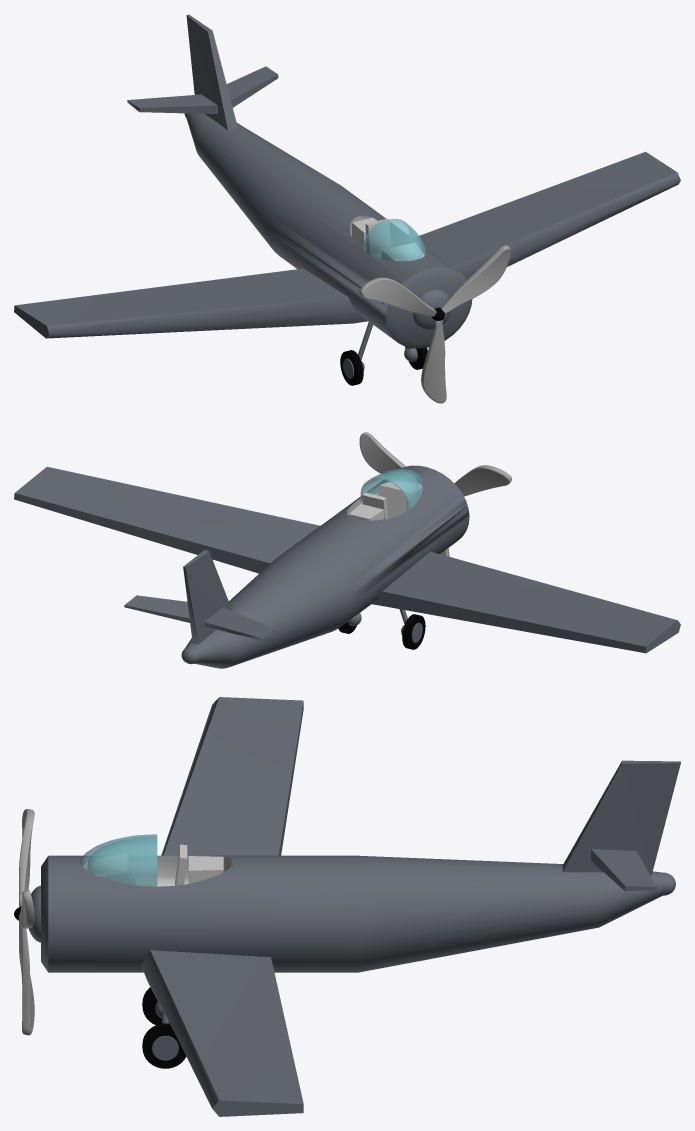
3 renders of one model, top to bottom at view 1: azimuth 30°, elevation 25°; view 2: azimuth 150°, elevation 25°; view 3: azimuth 270°, elevation 25°, orthographic. The views are drawn at different scales.
Parts seen in each view (by area): view 1: body.001_Sphere.005, propeller, cockpit_Sphere.007, windshield_Sphere.003, Cylinder.001_Cylinder.003; view 2: body.001_Sphere.005, propeller, cockpit_Sphere.007, windshield_Sphere.003, Cylinder.003_Cylinder.004, Cylinder.001_Cylinder.003; view 3: body.001_Sphere.005, cockpit_Sphere.007, windshield_Sphere.003, propeller, Cylinder, Cylinder.001_Cylinder.003.
Boxes of the visible parts, x1=… form: body.001_Sphere.005: x1=14, y1=14, x2=680, y2=348; propeller: x1=359, y1=245, x2=510, y2=403; cockpit_Sphere.007: x1=349, y1=216, x2=425, y2=261; windshield_Sphere.003: x1=363, y1=218, x2=425, y2=261; Cylinder.001_Cylinder.003: x1=343, y1=322, x2=417, y2=378; body.001_Sphere.005: x1=14, y1=465, x2=680, y2=668; propeller: x1=359, y1=432, x2=511, y2=556; cockpit_Sphere.007: x1=347, y1=476, x2=422, y2=520; windshield_Sphere.003: x1=360, y1=469, x2=422, y2=510; Cylinder.003_Cylinder.004: x1=402, y1=614, x2=425, y2=649; Cylinder.001_Cylinder.003: x1=348, y1=609, x2=422, y2=642; body.001_Sphere.005: x1=28, y1=697, x2=680, y2=1116; cockpit_Sphere.007: x1=80, y1=844, x2=233, y2=886; windshield_Sphere.003: x1=80, y1=834, x2=157, y2=886; propeller: x1=19, y1=809, x2=34, y2=1035; Cylinder: x1=142, y1=1023, x2=186, y2=1068; Cylinder.001_Cylinder.003: x1=152, y1=1001, x2=178, y2=1060.
Size of the model in its own units: 21.4 by 7.01 by 14.92.
